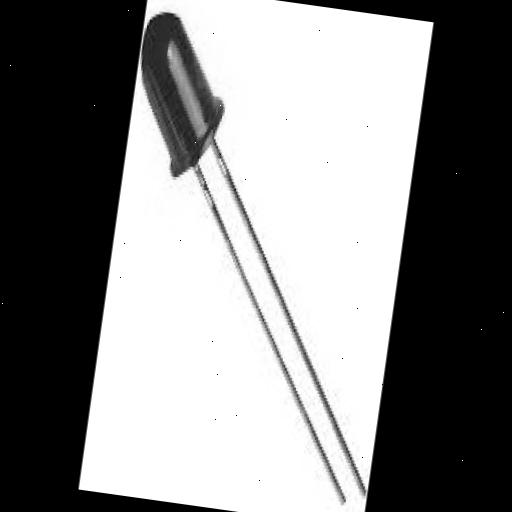LED: (81, 4, 429, 508)
